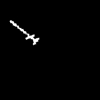double_crochet: (10, 21, 38, 44)
